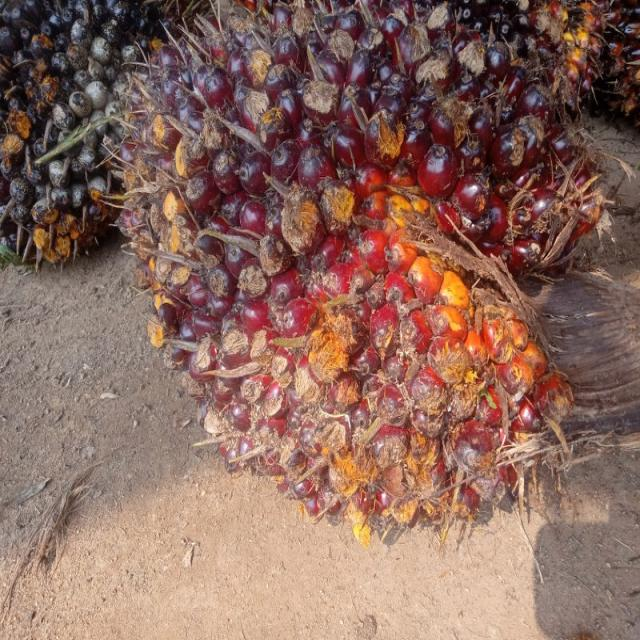fraksi 1: (113, 4, 606, 557)
